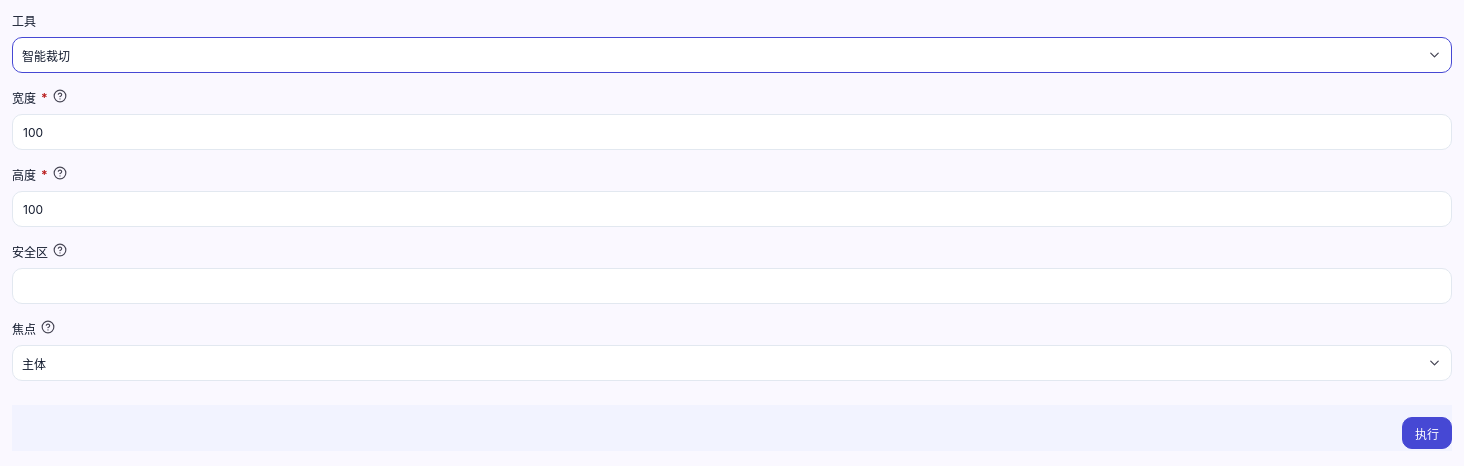
Test: marks required parameters and exposes localized help tooltips
This screenshot has width=1464, height=466.
Step 1. Hover over the picture named "查看宽度帮助" → (60,96), box [53,89,67,103]
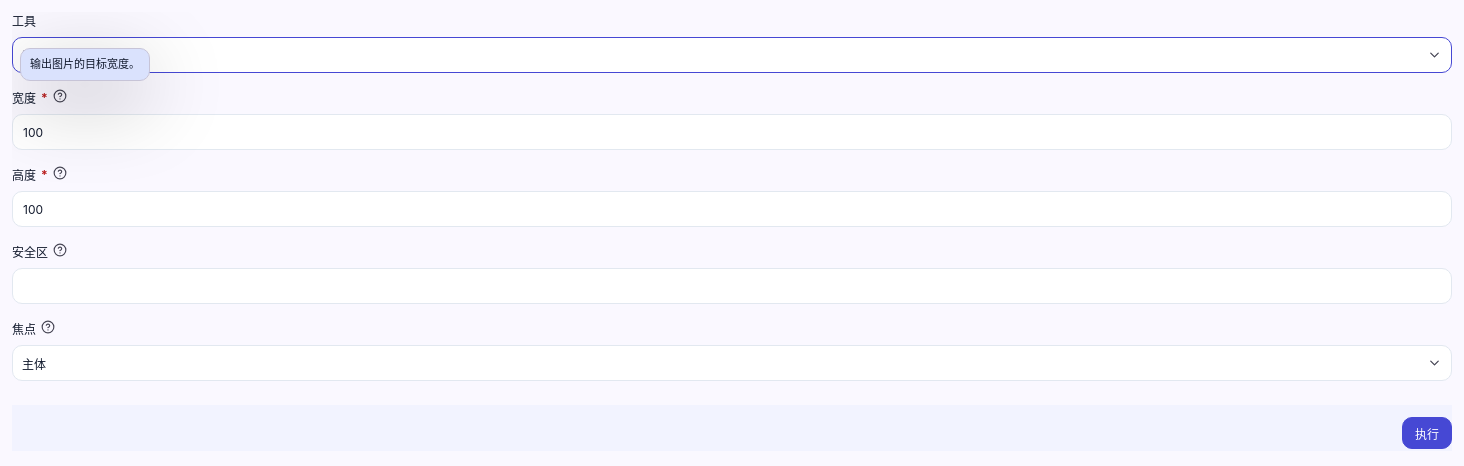
Expected: the tooltip "输出图片的目标宽度。" is shown, [20,48,150,81]
